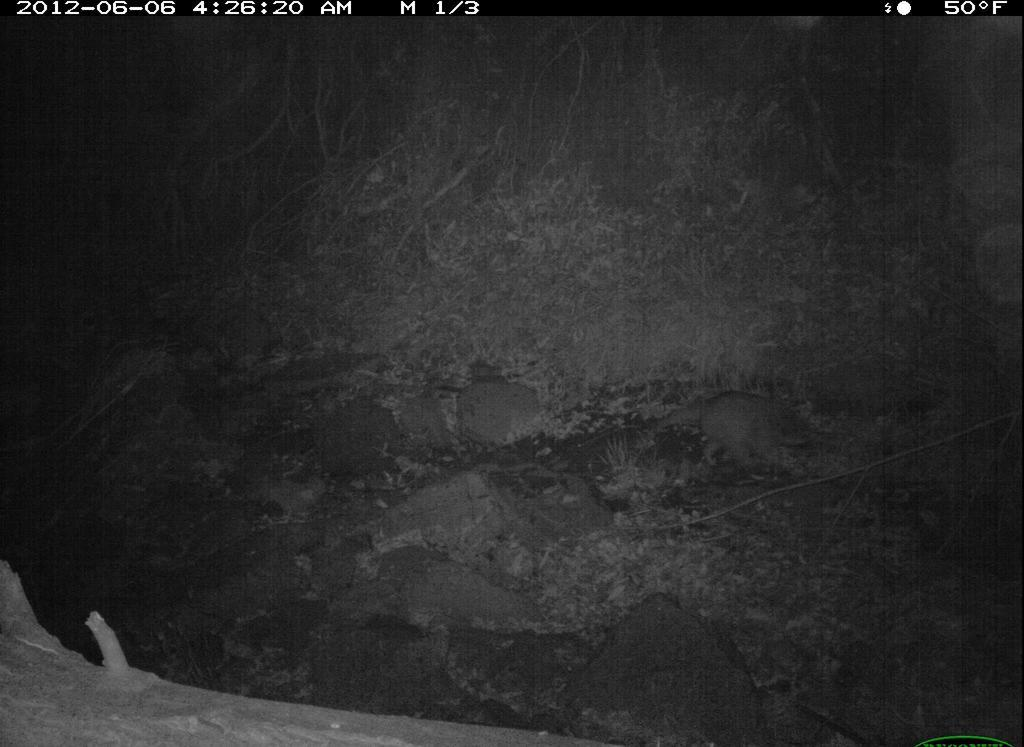raccoon: (649, 388, 821, 478)
